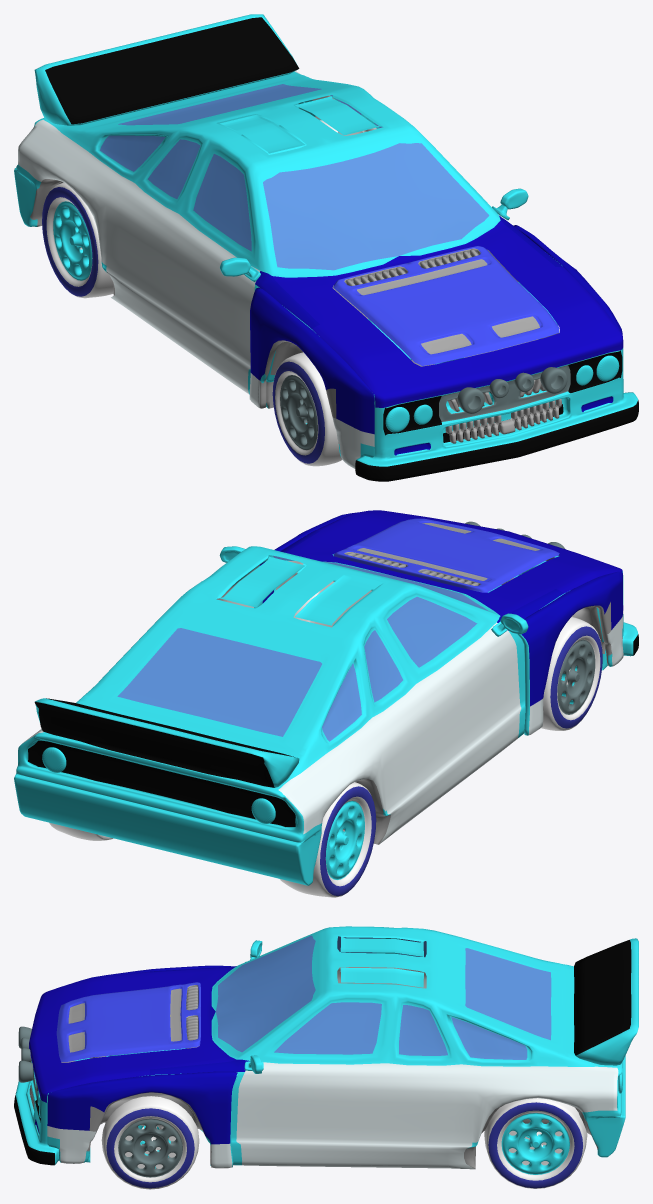
Rendered from Lancia.fbx.
3 renders of one model, top to bottom at view 1: azimuth 30°, elevation 25°; view 2: azimuth 150°, elevation 25°; view 3: azimuth 270°, elevation 25°, orthographic. The views are drawn at different scales.
Visible parts, largest first — view 1: Cube.001; view 2: Cube.001; view 3: Cube.001.
Boxes of the visible parts, box(x1,y1,x2,y2) form: Cube.001: box(14, 14, 638, 481); Cube.001: box(14, 510, 638, 897); Cube.001: box(14, 926, 638, 1189).
Size of the model in its own units: 915 by 596 by 1916.
